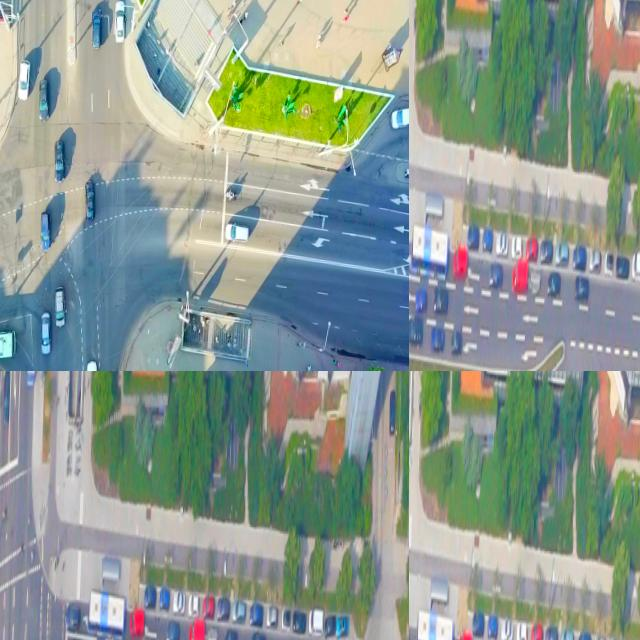UAI: (113, 0, 126, 44), (37, 80, 50, 122), (54, 139, 66, 183), (224, 221, 249, 242), (511, 261, 527, 293), (40, 312, 52, 354), (54, 285, 66, 327), (452, 246, 467, 279), (39, 210, 51, 251), (84, 180, 96, 221), (65, 599, 80, 631), (18, 60, 30, 99), (90, 9, 101, 50), (129, 608, 144, 638), (432, 286, 448, 314), (2, 371, 10, 425), (409, 314, 422, 347), (488, 260, 502, 289), (308, 607, 322, 636), (573, 275, 588, 302), (388, 389, 396, 437), (430, 326, 444, 353), (547, 271, 561, 297), (573, 244, 586, 271), (539, 238, 552, 264), (187, 619, 203, 640), (249, 602, 263, 626), (615, 255, 629, 278), (415, 288, 427, 314), (450, 330, 462, 356), (555, 240, 568, 264), (526, 235, 538, 261), (495, 230, 507, 256), (467, 224, 479, 250), (165, 618, 179, 640), (630, 250, 640, 280), (292, 610, 305, 633), (232, 600, 245, 623), (143, 585, 156, 608), (499, 617, 512, 640), (482, 226, 493, 253), (487, 613, 498, 640), (589, 249, 601, 273), (217, 596, 229, 620), (202, 594, 214, 618), (511, 233, 522, 259), (472, 610, 483, 636), (172, 591, 184, 614), (336, 615, 349, 636), (324, 615, 335, 639), (187, 592, 198, 616), (529, 271, 540, 294), (159, 587, 170, 610), (266, 605, 278, 626), (604, 250, 613, 276), (530, 621, 542, 640), (515, 621, 526, 640), (281, 607, 290, 630), (544, 625, 557, 640), (560, 627, 573, 640), (223, 628, 237, 640), (85, 360, 99, 371), (206, 626, 216, 640), (250, 630, 264, 640), (576, 631, 590, 640), (457, 632, 472, 640), (593, 634, 605, 640)
car: (410, 223, 449, 282), (87, 588, 125, 638), (415, 608, 453, 640), (0, 330, 16, 365)
harvester: (391, 100, 409, 129)
